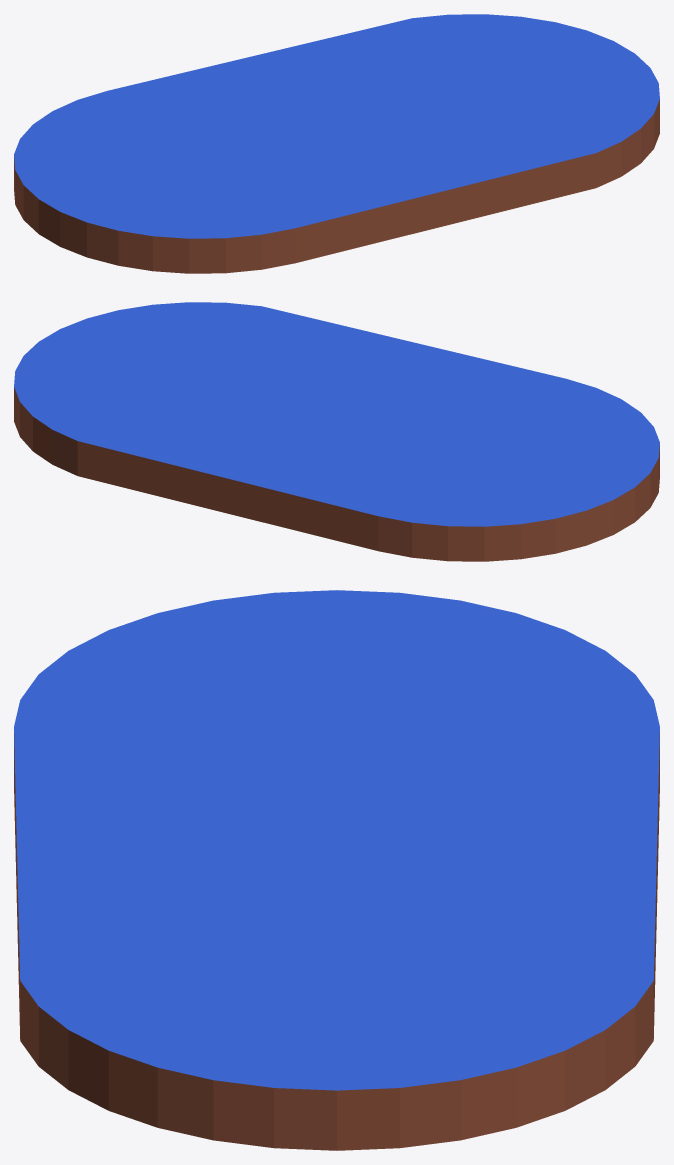
The model's file is tapis salle garde .fbx.
The picture shows the model from 3 angles, top to bottom: view 1: azimuth 30°, elevation 25°; view 2: azimuth 150°, elevation 25°; view 3: azimuth 270°, elevation 25°; orthographic projection. The views are drawn at different scales.
Visible parts, largest first — view 1: Cylinder.006; view 2: Cylinder.006; view 3: Cylinder.006.
Part boxes in pixels (x1,y1,x2,y2): Cylinder.006: (14,14,659,273); Cylinder.006: (14,302,659,561); Cylinder.006: (14,590,659,1150).
Bounding box in the file's own units: 3309 × 186 × 1805.
